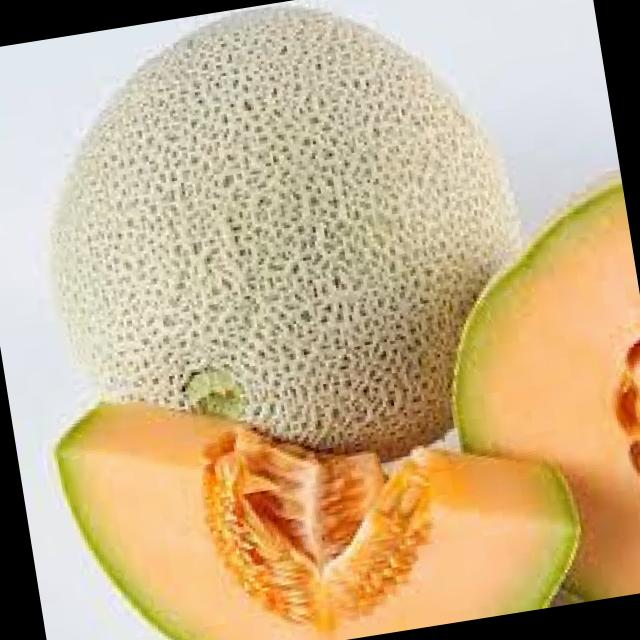cantaloupe: (16, 0, 552, 500), (48, 330, 596, 640)
